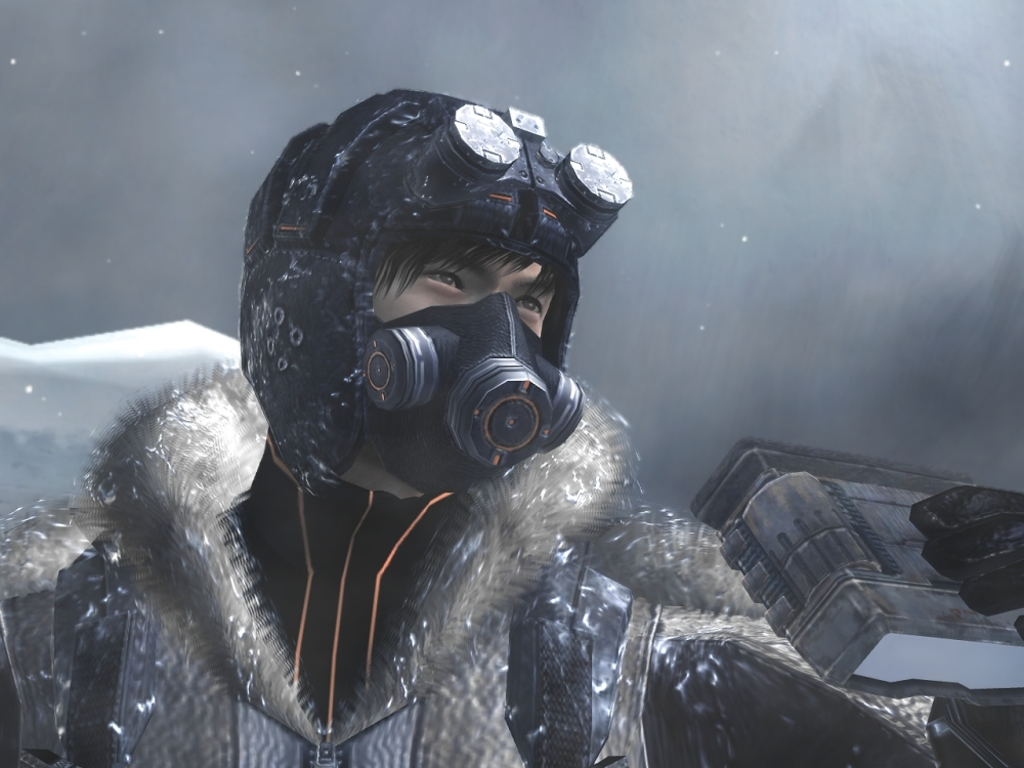Person: (0, 86, 1024, 768)
